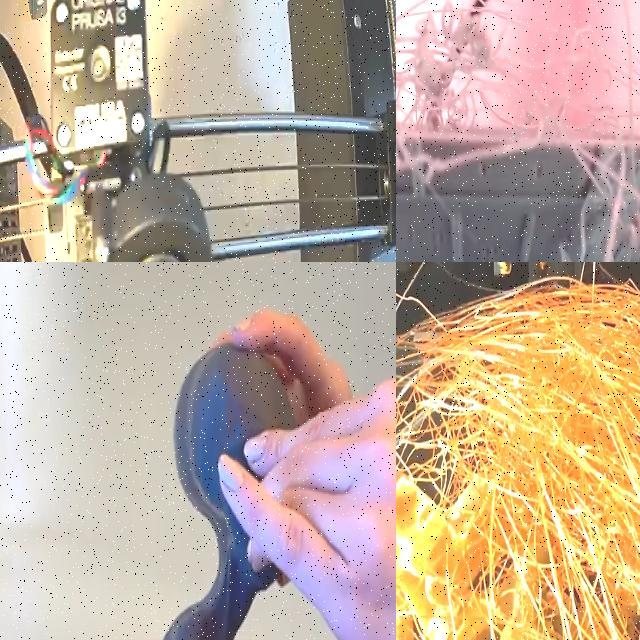spaghetti: (396, 262, 640, 640), (396, 0, 640, 262)
